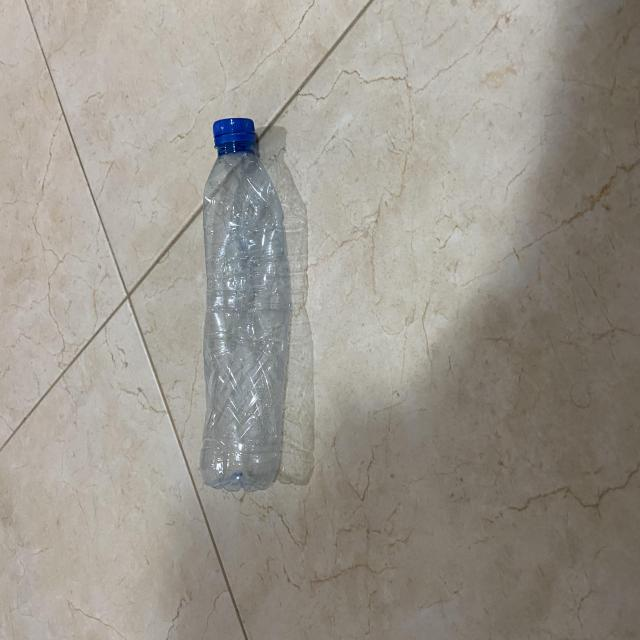plastic: (198, 114, 292, 493)
